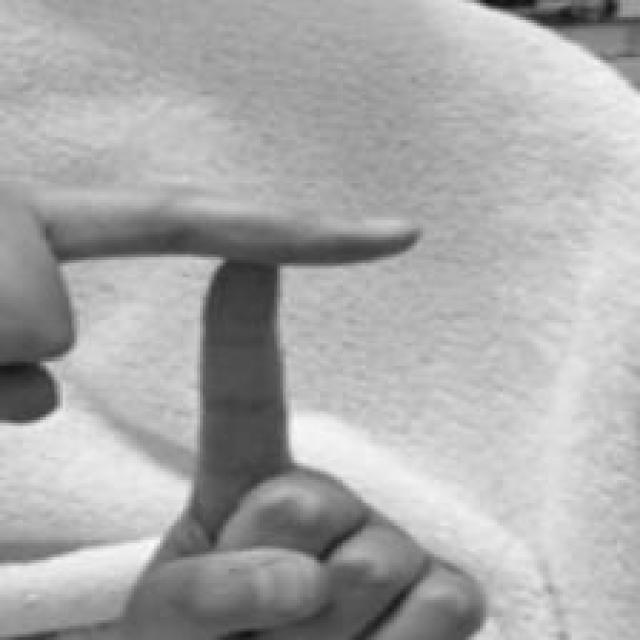T: (1, 156, 500, 640)
